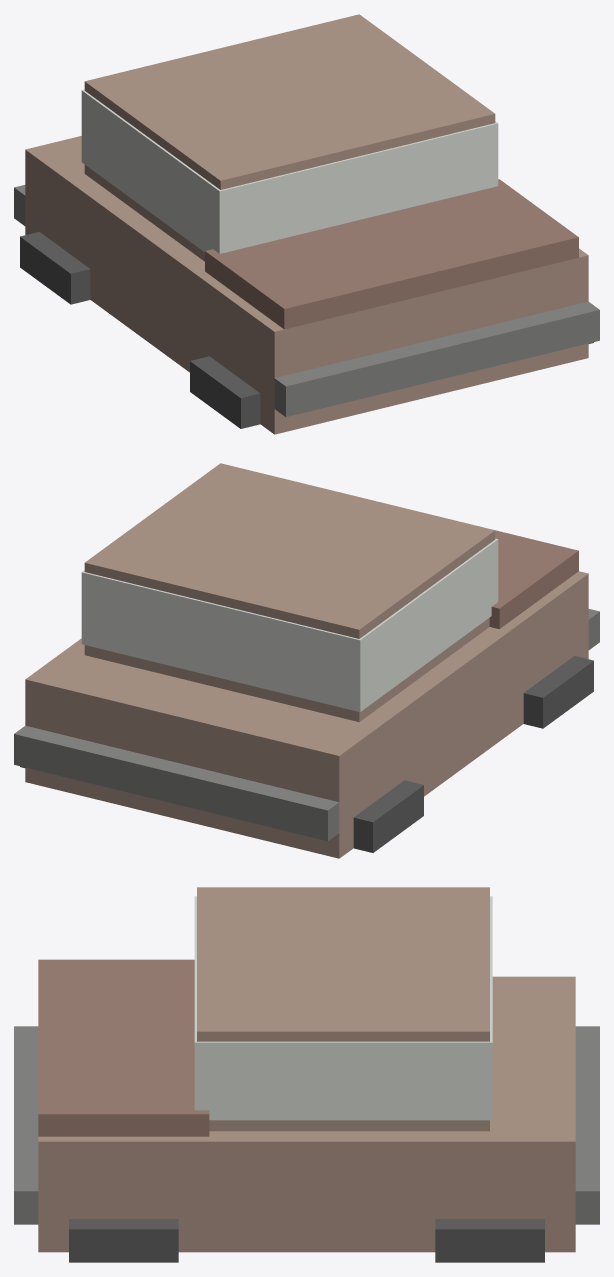
The model's file is Wreck_Car.glb.
3 views of the same model, one above another, from view 1: azimuth 30°, elevation 25°; view 2: azimuth 150°, elevation 25°; view 3: azimuth 270°, elevation 25° (orthographic). The views are drawn at different scales.
Size of the model in its own units: 1.8 by 0.95 by 2.4.
